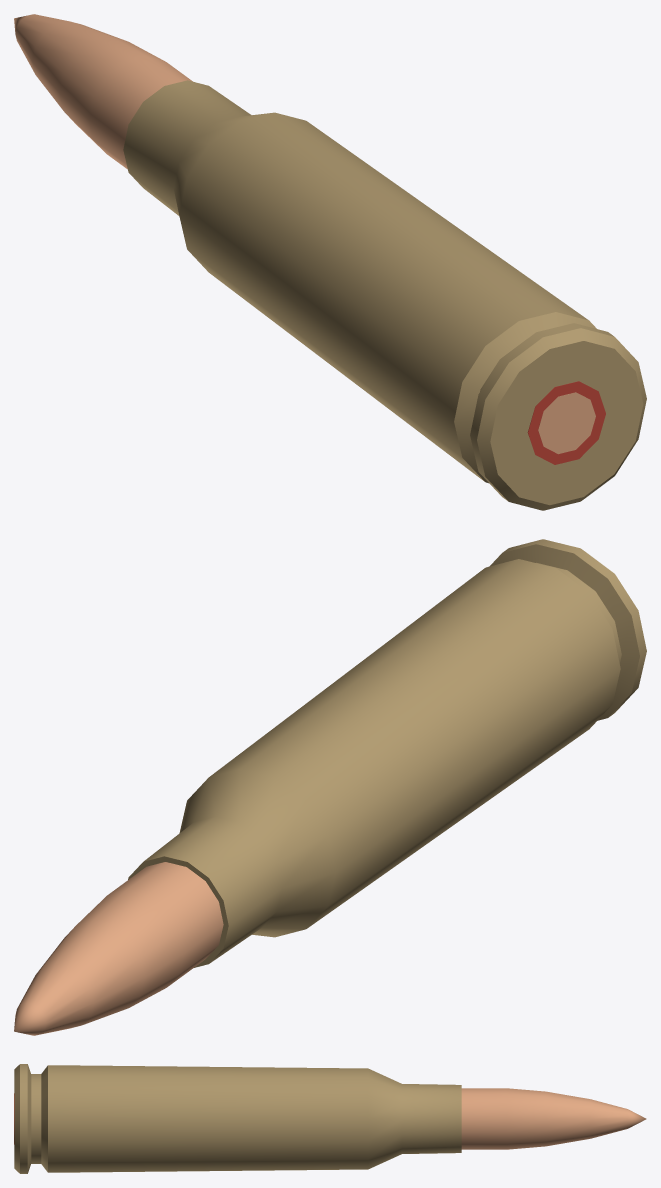
The model's file is round_545_repack.glb.
3 renders of one model, top to bottom at view 1: azimuth 30°, elevation 25°; view 2: azimuth 150°, elevation 25°; view 3: azimuth 270°, elevation 25°, orthographic. The views are drawn at different scales.
Visible parts, largest first — view 1: body; view 2: body; view 3: body.
Boxes of the visible parts, x1,y1,x2,y2 form: body: (14,14,646,510); body: (14,539,646,1035); body: (14,1064,646,1173).
Bounding box in the file's own units: 0.01 × 0.00975 × 0.0563.
